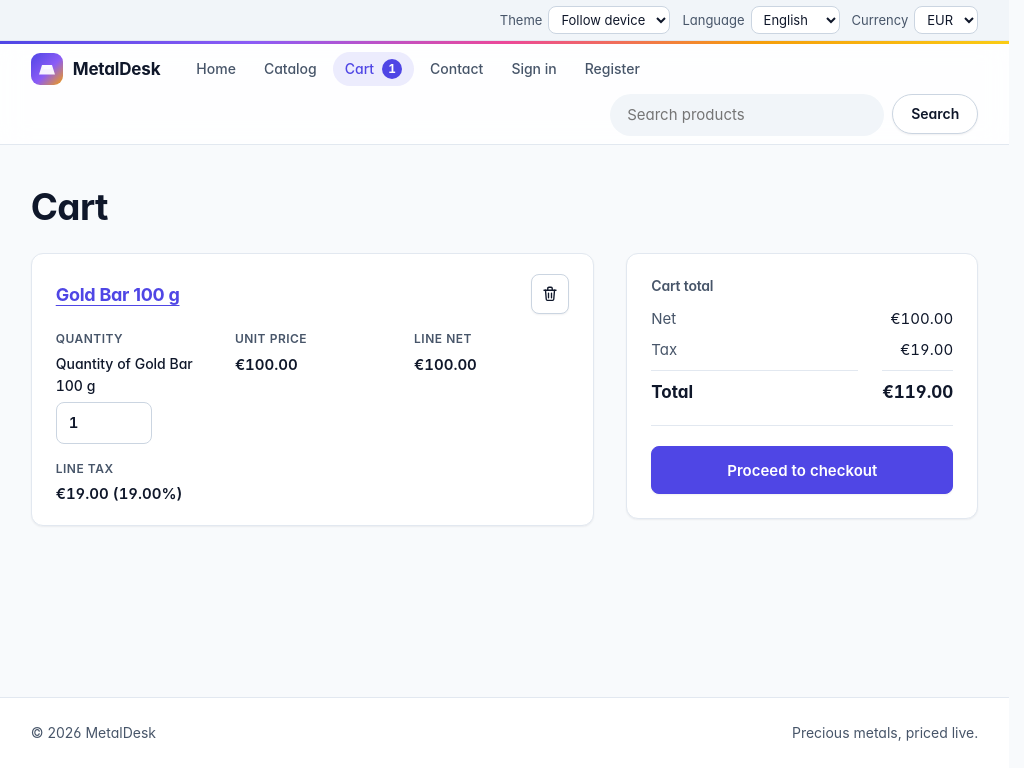
Test case: the cart page › prevents a quantity above the cap without sending it, and keeps what was typed
Replace the text in the number field labelled "Quantity of Gold Bar 100 g" with "12" at (104, 423), box [56,402,152,444]
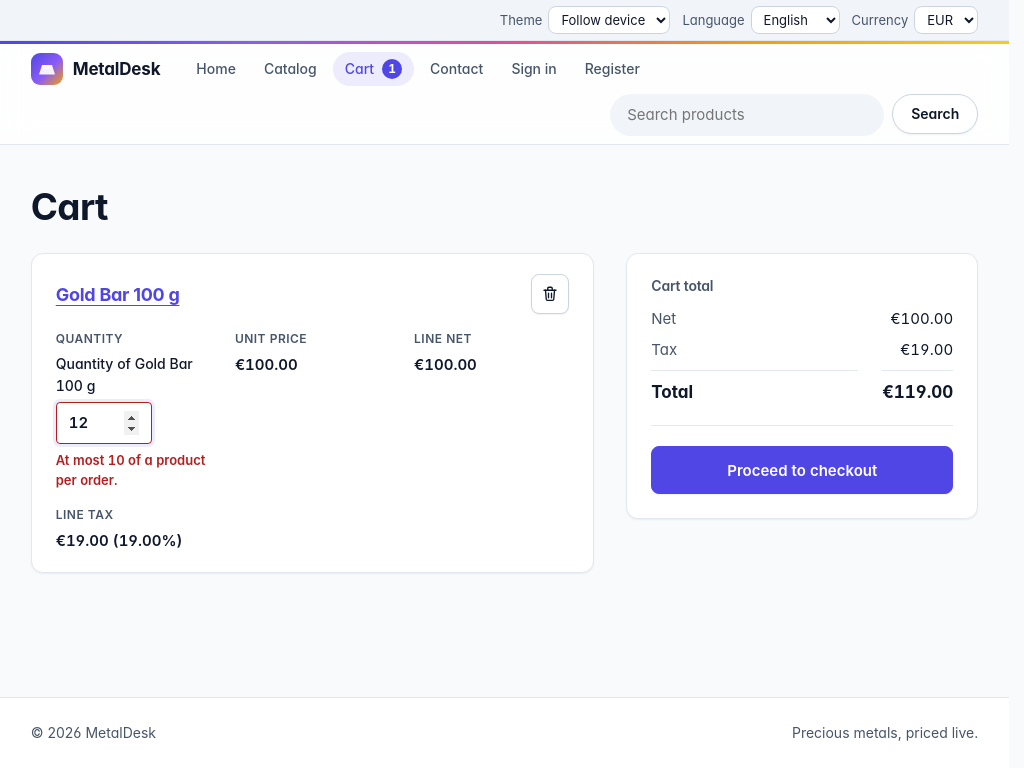
Result: the text "At most 10 of a product per order." is shown at [56,450,211,490]
